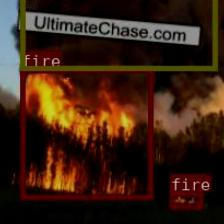fire: (19, 67, 151, 199), (170, 191, 202, 208)
smoke: (19, 0, 217, 69)
